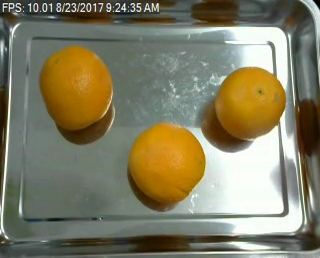Orange: (39, 45, 115, 131), (129, 123, 205, 204), (214, 66, 287, 140)
